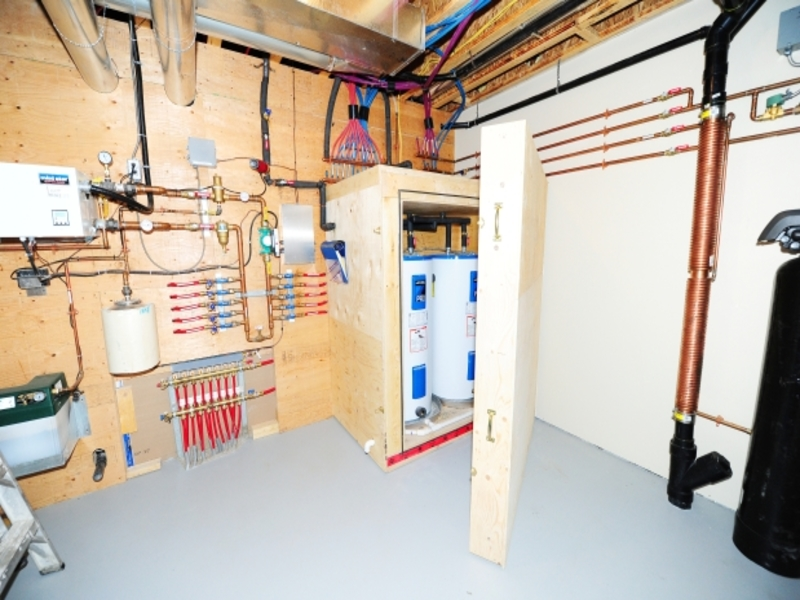valve: (661, 140, 698, 163), (251, 201, 274, 237), (649, 82, 688, 102), (262, 255, 279, 288), (255, 128, 276, 154), (657, 99, 684, 118), (188, 218, 217, 232), (189, 188, 216, 199), (662, 125, 690, 132)
